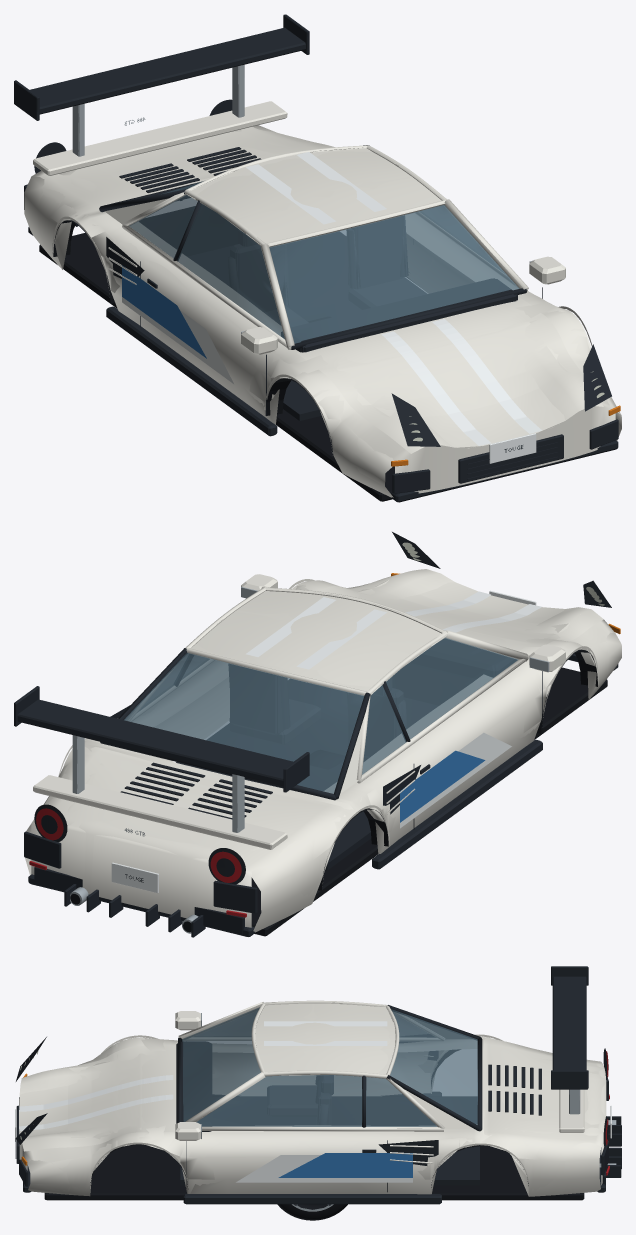
File: ferrari488.glb
The picture shows the model from 3 angles, top to bottom: view 1: azimuth 30°, elevation 25°; view 2: azimuth 150°, elevation 25°; view 3: azimuth 270°, elevation 25°; orthographic projection. The views are drawn at different scales.
Visible parts, largest first — view 1: LOD0_body, LOD0_cabin, LOD0_glass, LOD1_glass, LOD1_body, LOD0_hood, LOD1_hood, LOD1_spoiler_gt, LOD0_spoiler_gt, LOD1_cabin, LOD0_vinyl_apex, LOD0_vinyl_twin (+3 smaller); view 2: LOD0_body, LOD0_cabin, LOD1_body, LOD0_glass, LOD1_glass, LOD1_spoiler_gt, LOD0_spoiler_gt, LOD0_hood, LOD1_hood, LOD1_cabin, LOD0_vinyl_apex, LOD1_spoiler_stock (+3 smaller); view 3: LOD0_body, LOD1_body, LOD0_cabin, LOD0_glass, LOD1_glass, LOD0_hood, LOD1_hood, LOD0_vinyl_apex, LOD1_cabin, LOD1_spoiler_gt, LOD0_vinyl_twin, LOD0_spoiler_gt (+3 smaller).
Boxes of the visible parts, x1=… form: LOD0_body: x1=24, y1=99, x2=621, y2=502; LOD0_cabin: x1=99, y1=145, x2=528, y2=420; LOD0_glass: x1=129, y1=181, x2=519, y2=343; LOD1_glass: x1=130, y1=181, x2=519, y2=343; LOD1_body: x1=24, y1=100, x2=621, y2=502; LOD0_hood: x1=296, y1=298, x2=603, y2=453; LOD1_hood: x1=336, y1=316, x2=567, y2=447; LOD1_spoiler_gt: x1=14, y1=27, x2=308, y2=156; LOD0_spoiler_gt: x1=14, y1=14, x2=309, y2=156; LOD1_cabin: x1=100, y1=145, x2=521, y2=420; LOD0_vinyl_apex: x1=122, y1=265, x2=233, y2=383; LOD0_vinyl_twin: x1=246, y1=152, x2=526, y2=435; LOD0_body: x1=24, y1=542, x2=621, y2=937; LOD0_cabin: x1=100, y1=586, x2=528, y2=870; LOD1_body: x1=25, y1=532, x2=621, y2=936; LOD0_glass: x1=124, y1=637, x2=517, y2=793; LOD1_glass: x1=124, y1=638, x2=518, y2=793; LOD1_spoiler_gt: x1=16, y1=686, x2=299, y2=832; LOD0_spoiler_gt: x1=14, y1=686, x2=309, y2=832; LOD0_hood: x1=319, y1=569, x2=603, y2=656; LOD1_hood: x1=354, y1=580, x2=568, y2=644; LOD1_cabin: x1=118, y1=587, x2=528, y2=869; LOD0_vinyl_apex: x1=400, y1=732, x2=511, y2=828; LOD1_spoiler_stock: x1=33, y1=775, x2=287, y2=849; LOD0_body: x1=15, y1=1011, x2=621, y2=1204; LOD1_body: x1=15, y1=1011, x2=616, y2=1203; LOD0_cabin: x1=176, y1=1000, x2=482, y2=1185; LOD0_glass: x1=182, y1=1007, x2=477, y2=1126; LOD1_glass: x1=182, y1=1008, x2=477, y2=1126; LOD0_hood: x1=19, y1=1045, x2=176, y2=1151; LOD1_hood: x1=19, y1=1053, x2=166, y2=1137; LOD0_vinyl_apex: x1=236, y1=1153, x2=412, y2=1182; LOD1_cabin: x1=177, y1=1002, x2=481, y2=1185; LOD1_spoiler_gt: x1=551, y1=976, x2=587, y2=1113; LOD0_vinyl_twin: x1=22, y1=1021, x2=387, y2=1129; LOD0_spoiler_gt: x1=551, y1=966, x2=588, y2=1114.
Size of the model in its own units: 2.21 by 1.69 by 4.73.
